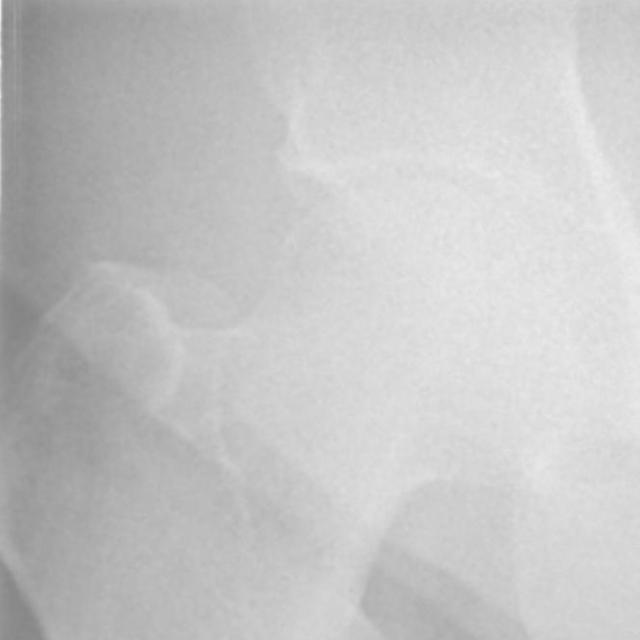Fitted_femural_head: (333, 175, 432, 333)
